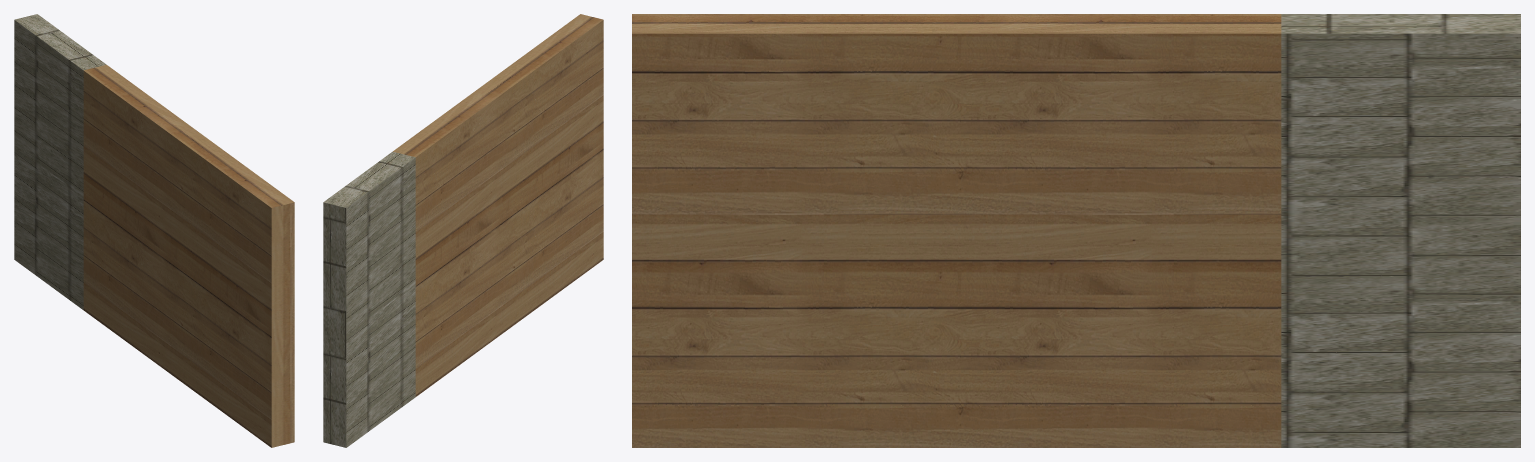
Rendered from nt_concrete_fence_straight_skinny_LOD1.obj.
3 views of the same model, side by side, from view 1: azimuth 30°, elevation 25°; view 2: azimuth 150°, elevation 25°; view 3: azimuth 270°, elevation 25° (orthographic). The views are drawn at different scales.
Parts seen in each view (by area): view 1: nt_wood_fence, nt_2020_concrete_pattern_02; view 2: nt_wood_fence, nt_2020_concrete_pattern_02; view 3: nt_wood_fence, nt_2020_concrete_pattern_02.
Boxes of the visible parts, x1,y1,x2,y2 form: nt_wood_fence: (83, 64, 294, 447); nt_2020_concrete_pattern_02: (14, 14, 106, 309); nt_wood_fence: (393, 14, 603, 396); nt_2020_concrete_pattern_02: (323, 151, 415, 447); nt_wood_fence: (632, 14, 1281, 447); nt_2020_concrete_pattern_02: (1281, 14, 1520, 447).
Size of the model in its own units: 10.34 by 102 by 198.
